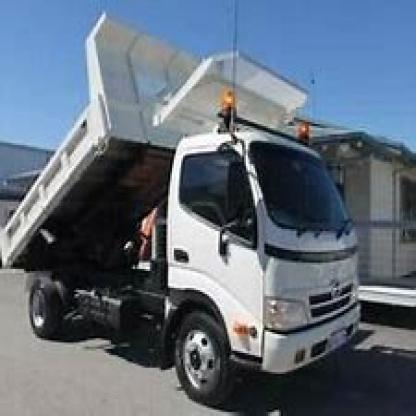dump_truck: (10, 14, 362, 406)
